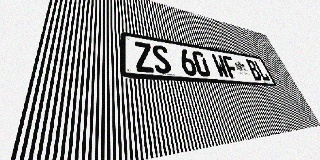0: (191, 50, 211, 77)
6: (178, 48, 198, 76)
B: (245, 59, 263, 81)
F: (221, 55, 241, 79)
L: (253, 60, 271, 81)
S: (151, 44, 172, 74)
W: (211, 54, 230, 78)
Z: (133, 41, 155, 73)
